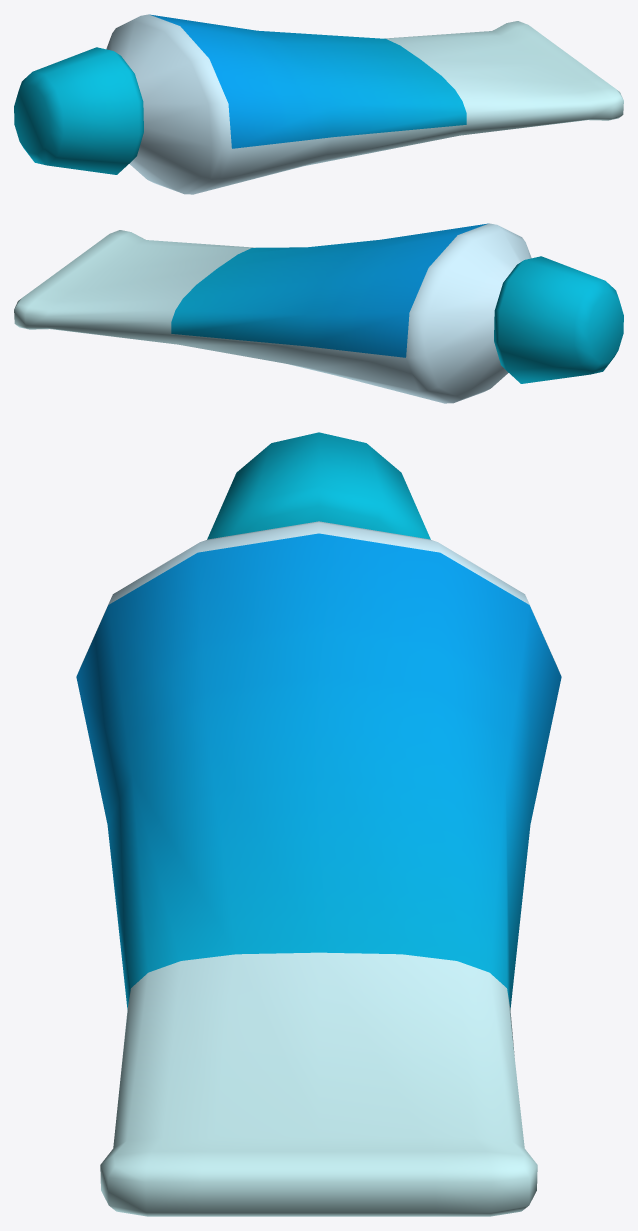
Rendered from Toothpaste_001.fbx.
3 views of the same model, one above another, from view 1: azimuth 30°, elevation 25°; view 2: azimuth 150°, elevation 25°; view 3: azimuth 270°, elevation 25° (orthographic). The views are drawn at different scales.
Visible parts, largest first — view 1: Toothpaste_001; view 2: Toothpaste_001; view 3: Toothpaste_001.
Boxes of the visible parts, x1=… form: Toothpaste_001: x1=14, y1=14, x2=623, y2=194; Toothpaste_001: x1=14, y1=223, x2=623, y2=403; Toothpaste_001: x1=76, y1=432, x2=561, y2=1216.
Bounding box in the file's own units: 25.92 × 9.92 × 6.92.
